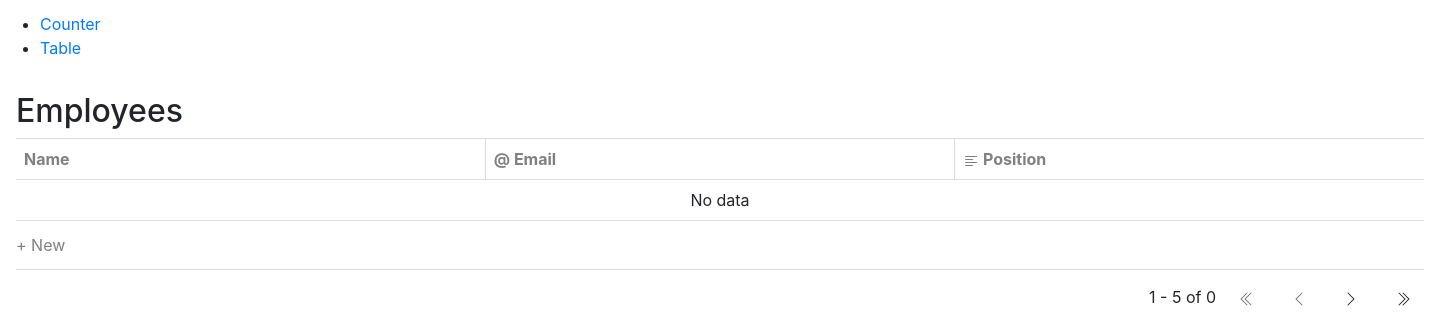
Integration test App › When navigate to Counter page
Click the link "Table".
click(61, 48)  # box [40,38,81,58]
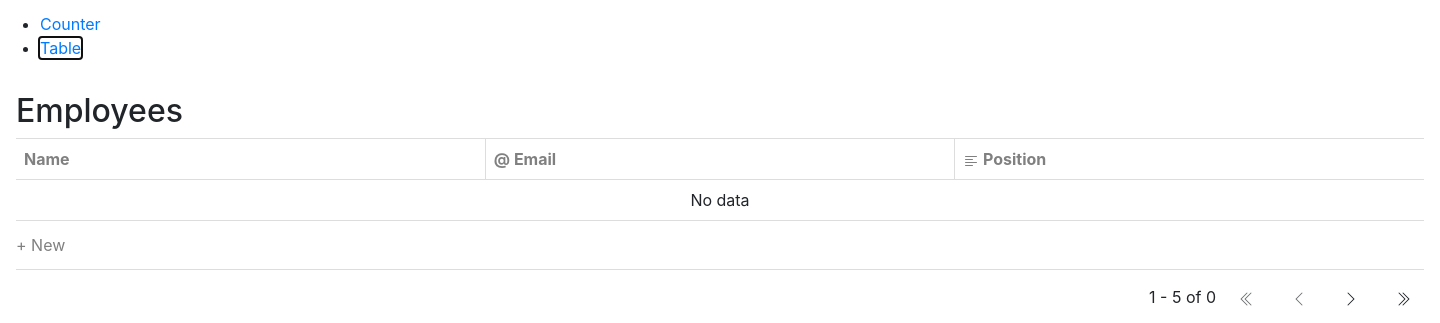
Expected: the heading "Employees" is shown, [16,91,183,130]
Click the link "Counter".
click(70, 24)  # box [40,14,101,34]
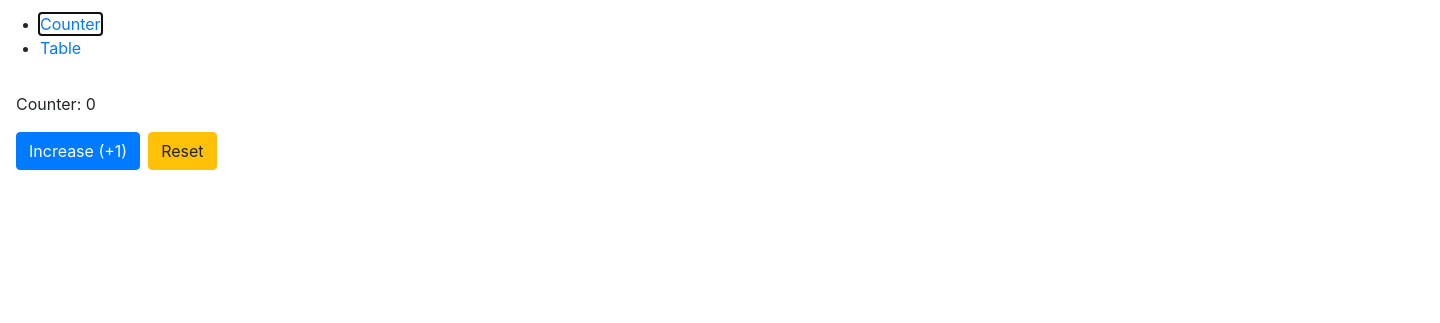
Expected: the text "Counter: 0" is shown, [16,94,96,114]
